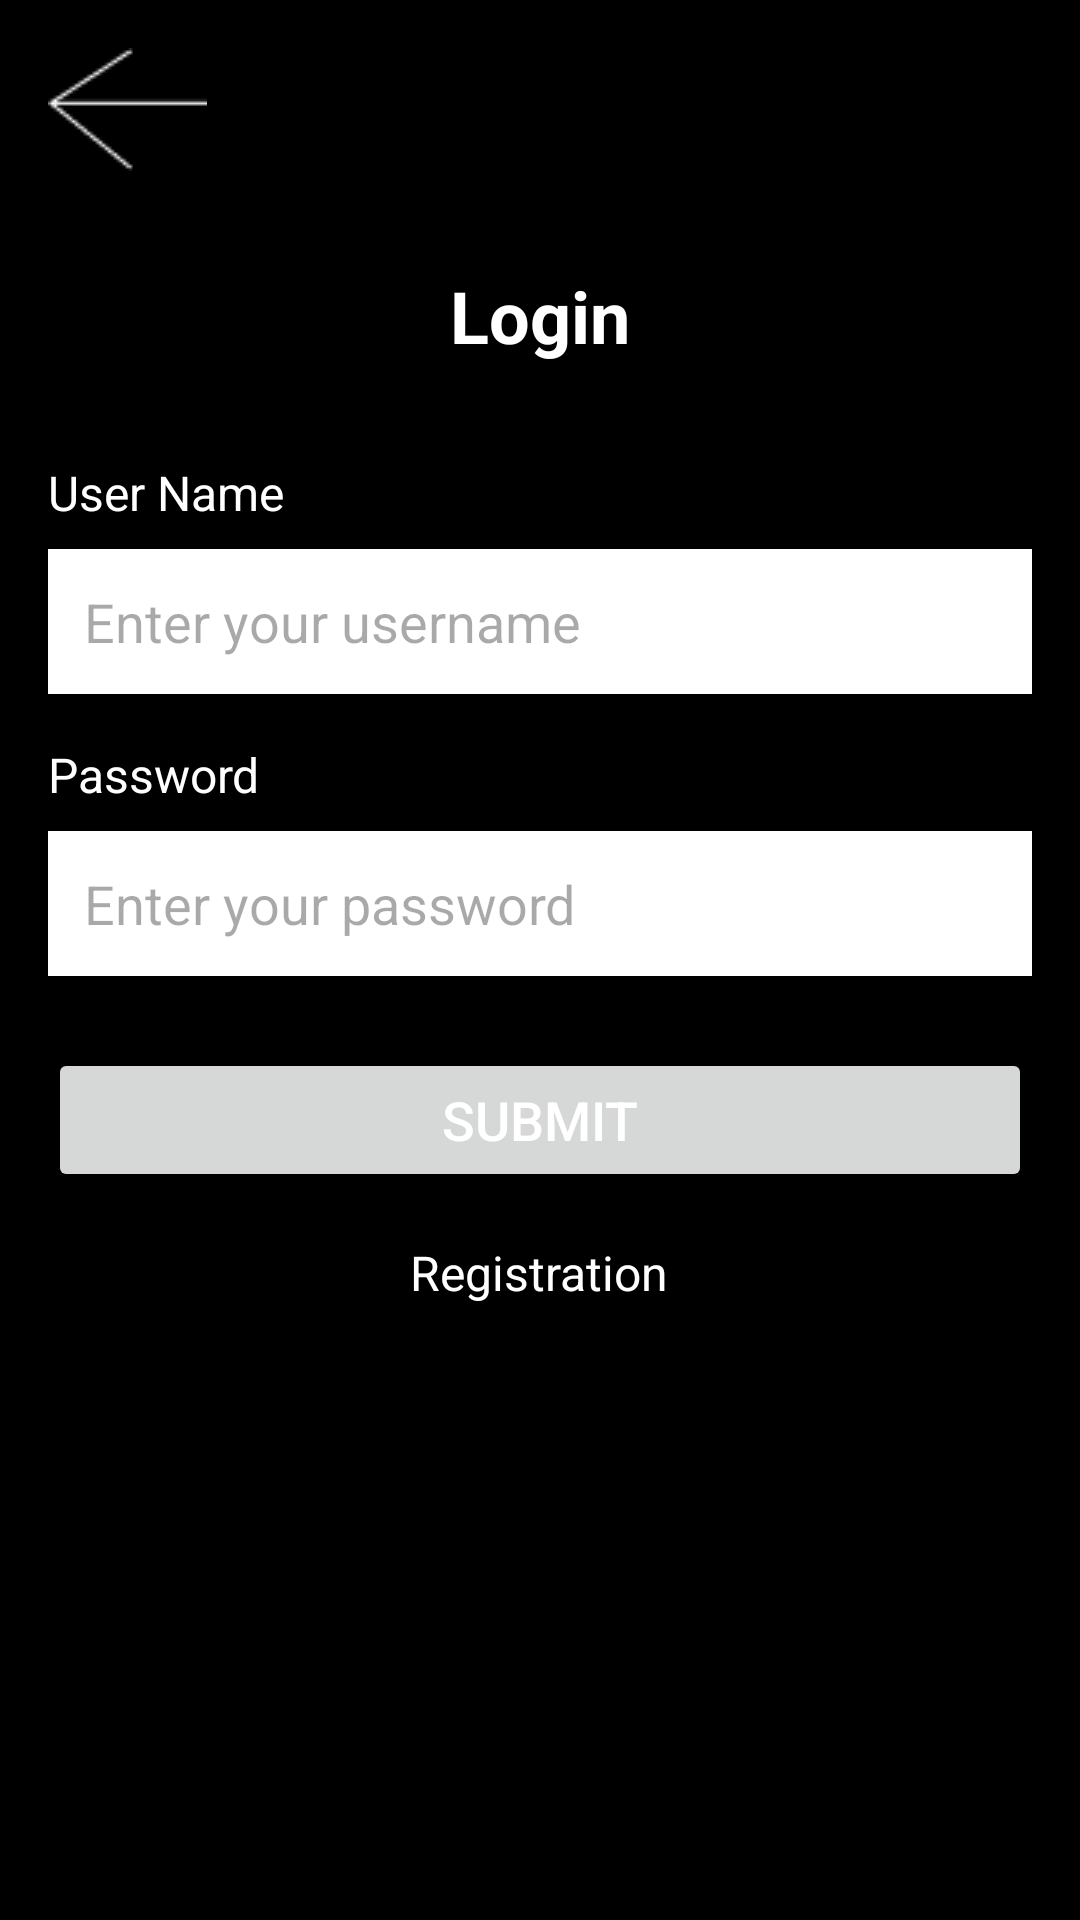

Named icons in this screenshot (1080px x 1920px) and their centers, point (x, y):
Back: point (127, 109)
